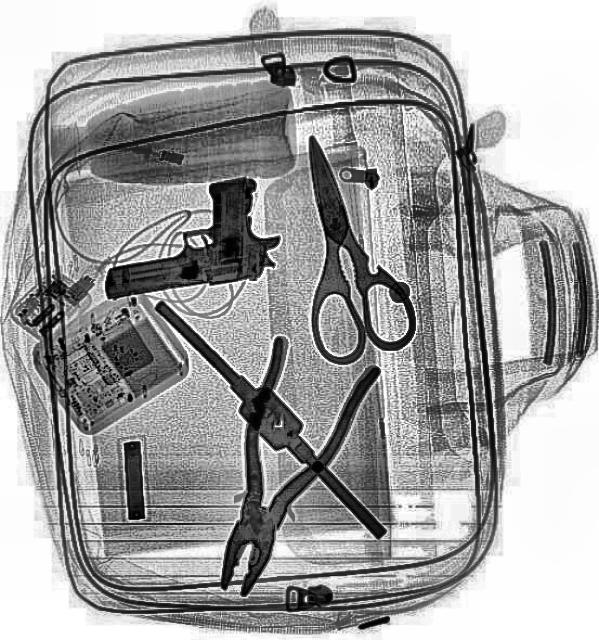Gun: (86, 171, 288, 307)
Pliers: (178, 326, 380, 610)
Scissors: (258, 123, 423, 370)
